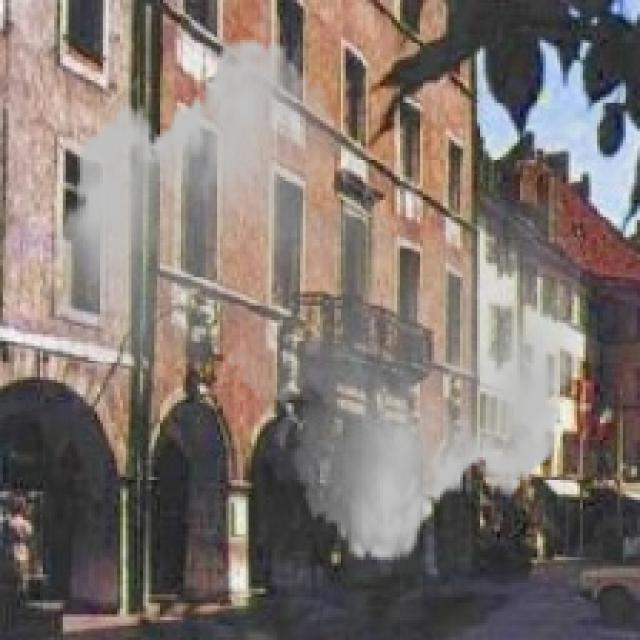Smoke: (46, 20, 588, 580)
